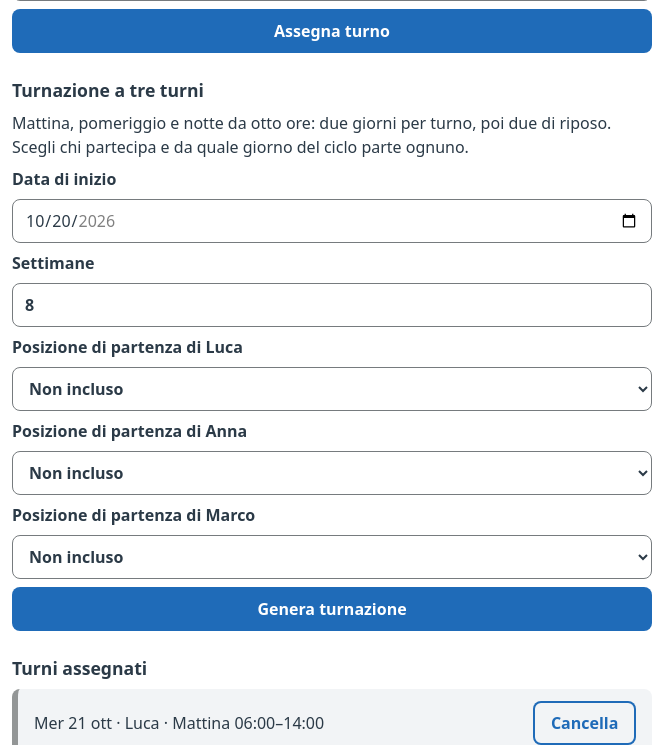
Test case: asks to pick at least one person instead of generating nothing
The image size is (669, 745).
(page scrolled)
Click the button "Genera turnazione".
click(332, 609)  # box x1=12 y1=587 x2=652 y2=631
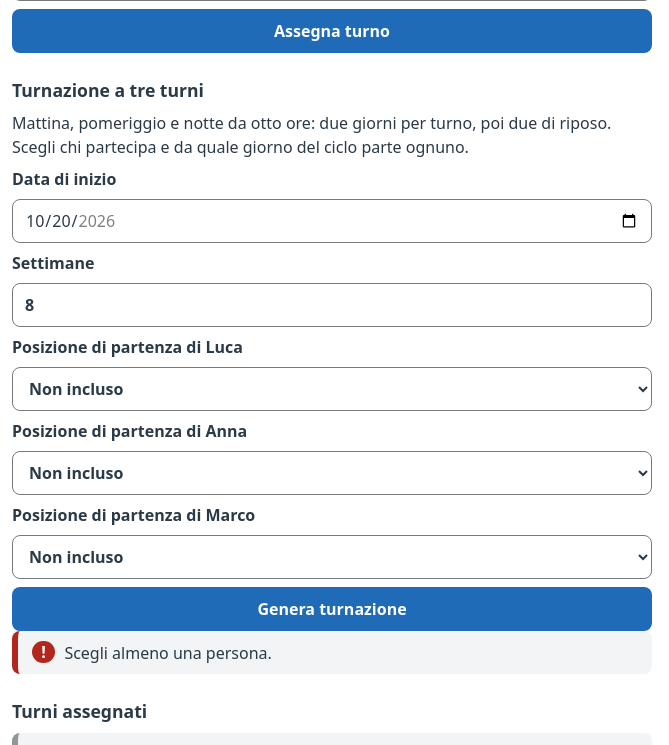
Now the message shows "Scegli almeno una persona", box x1=64 y1=642 x2=272 y2=664
